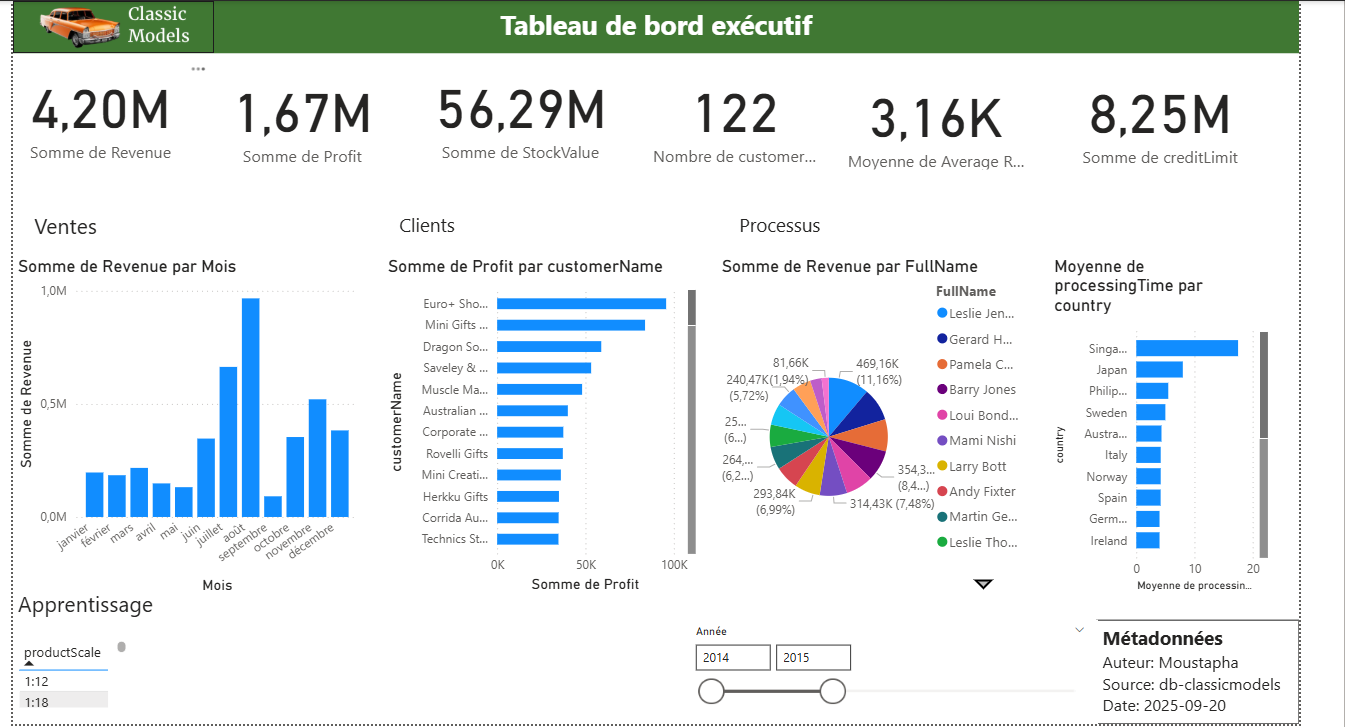

What the dashboard file says about the page in this screenshot:
{"tool":"powerbi","page":{"name":"Page 1","canvas":[1280,720],"ordinal":0},"visuals":[{"type":"textbox","box":[0,0,1280.3,51.9],"z":0},{"type":"textbox","box":[1078.6,616.1,201.7,104.3],"z":1000},{"type":"card","fields":{"Values":["db-classicmodels OrderDetails.Revenue"]},"box":[0,54.7,174.7,113.3],"z":2000},{"type":"card","fields":{"Values":["db-classicmodels OrderDetails.Profit"]},"box":[201.3,60,173.3,112],"z":3000},{"type":"card","fields":{"Values":["db-classicmodels Products.StockValue"]},"box":[410.7,60,189.3,104],"z":4000},{"type":"card","fields":{"Values":["db-classicmodels Customers.creditLimit"]},"box":[1031.6,64.1,221.3,103.8],"z":5000},{"type":"card","fields":{"Values":["db-classicmodels Customers.customerNumber"]},"box":[626.7,60,182.7,112],"z":6000},{"type":"columnChart","fields":{"Y":["db-classicmodels OrderDetails.Revenue"],"Category":["db-classicmodels Orders.orderDate.Variation.Hiérarchie de dates.Mois"]},"box":[0,254.3,348.4,340.7],"z":7000},{"type":"textbox","box":[16.8,204.5,100.7,50.4],"z":8000},{"type":"clusteredBarChart","fields":{"Y":["db-classicmodels OrderDetails.Profit"],"Category":["db-classicmodels Customers.customerName"]},"box":[368.7,254.3,316.6,339.5],"z":9000},{"type":"pieChart","fields":{"Y":["db-classicmodels OrderDetails.Revenue"],"Category":["db-classicmodels Employees.FullName"]},"box":[700.5,254.3,315.3,339.5],"z":10000},{"type":"clusteredBarChart","fields":{"Y":["db-classicmodels Orders.processingTime"],"Category":["db-classicmodels Customers.country"]},"box":[1030.9,254.2,222.6,339.4],"z":11000},{"type":"textbox","box":[378.9,204.7,82.6,35.6],"z":12000},{"type":"textbox","box":[718.3,204.7,105.5,35.6],"z":13000},{"type":"image","box":[0,0,200.9,52.3],"z":14000},{"type":"tableEx","fields":{"Values":["db-classicmodels Products.productScale"]},"box":[0,632.4,117.4,76.4],"z":15000},{"type":"textbox","box":[0,580,157,52.3],"z":16000},{"type":"slicer","fields":{"Values":["db-classicmodels Orders.orderDate.Variation.Hiérarchie de dates.Année"]},"box":[666.7,616,412,104],"z":17000},{"type":"card","fields":{"Values":["db-classicmodels OrderDetails.Average Revenue by Client"]},"box":[824,68,190.7,104],"z":18000}]}

Visuals, with their boxes on the page's 1280x720 design canvas (x1, y1, x2, y2). These are canvas units, not pixel positions in the 1345x727 screenshot, which may show the page scaled, cropped or inside an application window:
textbox: [0,0,1280,52]
textbox: [1079,616,1280,720]
card - db-classicmodels OrderDetails.Revenue: [0,55,175,168]
card - db-classicmodels OrderDetails.Profit: [201,60,375,172]
card - db-classicmodels Products.StockValue: [411,60,600,164]
card - db-classicmodels Customers.creditLimit: [1032,64,1253,168]
card - db-classicmodels Customers.customerNumber: [627,60,809,172]
columnChart - db-classicmodels OrderDetails.Revenue x db-classicmodels Orders.orderDate.Variation.Hiérarchie de dates.Mois: [0,254,348,595]
textbox: [17,204,118,255]
clusteredBarChart - db-classicmodels OrderDetails.Profit x db-classicmodels Customers.customerName: [369,254,685,594]
pieChart - db-classicmodels OrderDetails.Revenue x db-classicmodels Employees.FullName: [700,254,1016,594]
clusteredBarChart - db-classicmodels Orders.processingTime x db-classicmodels Customers.country: [1031,254,1254,594]
textbox: [379,205,462,240]
textbox: [718,205,824,240]
image: [0,0,201,52]
tableEx - db-classicmodels Products.productScale: [0,632,117,709]
textbox: [0,580,157,632]
slicer - db-classicmodels Orders.orderDate.Variation.Hiérarchie de dates.Année: [667,616,1079,720]
card - db-classicmodels OrderDetails.Average Revenue by Client: [824,68,1015,172]
